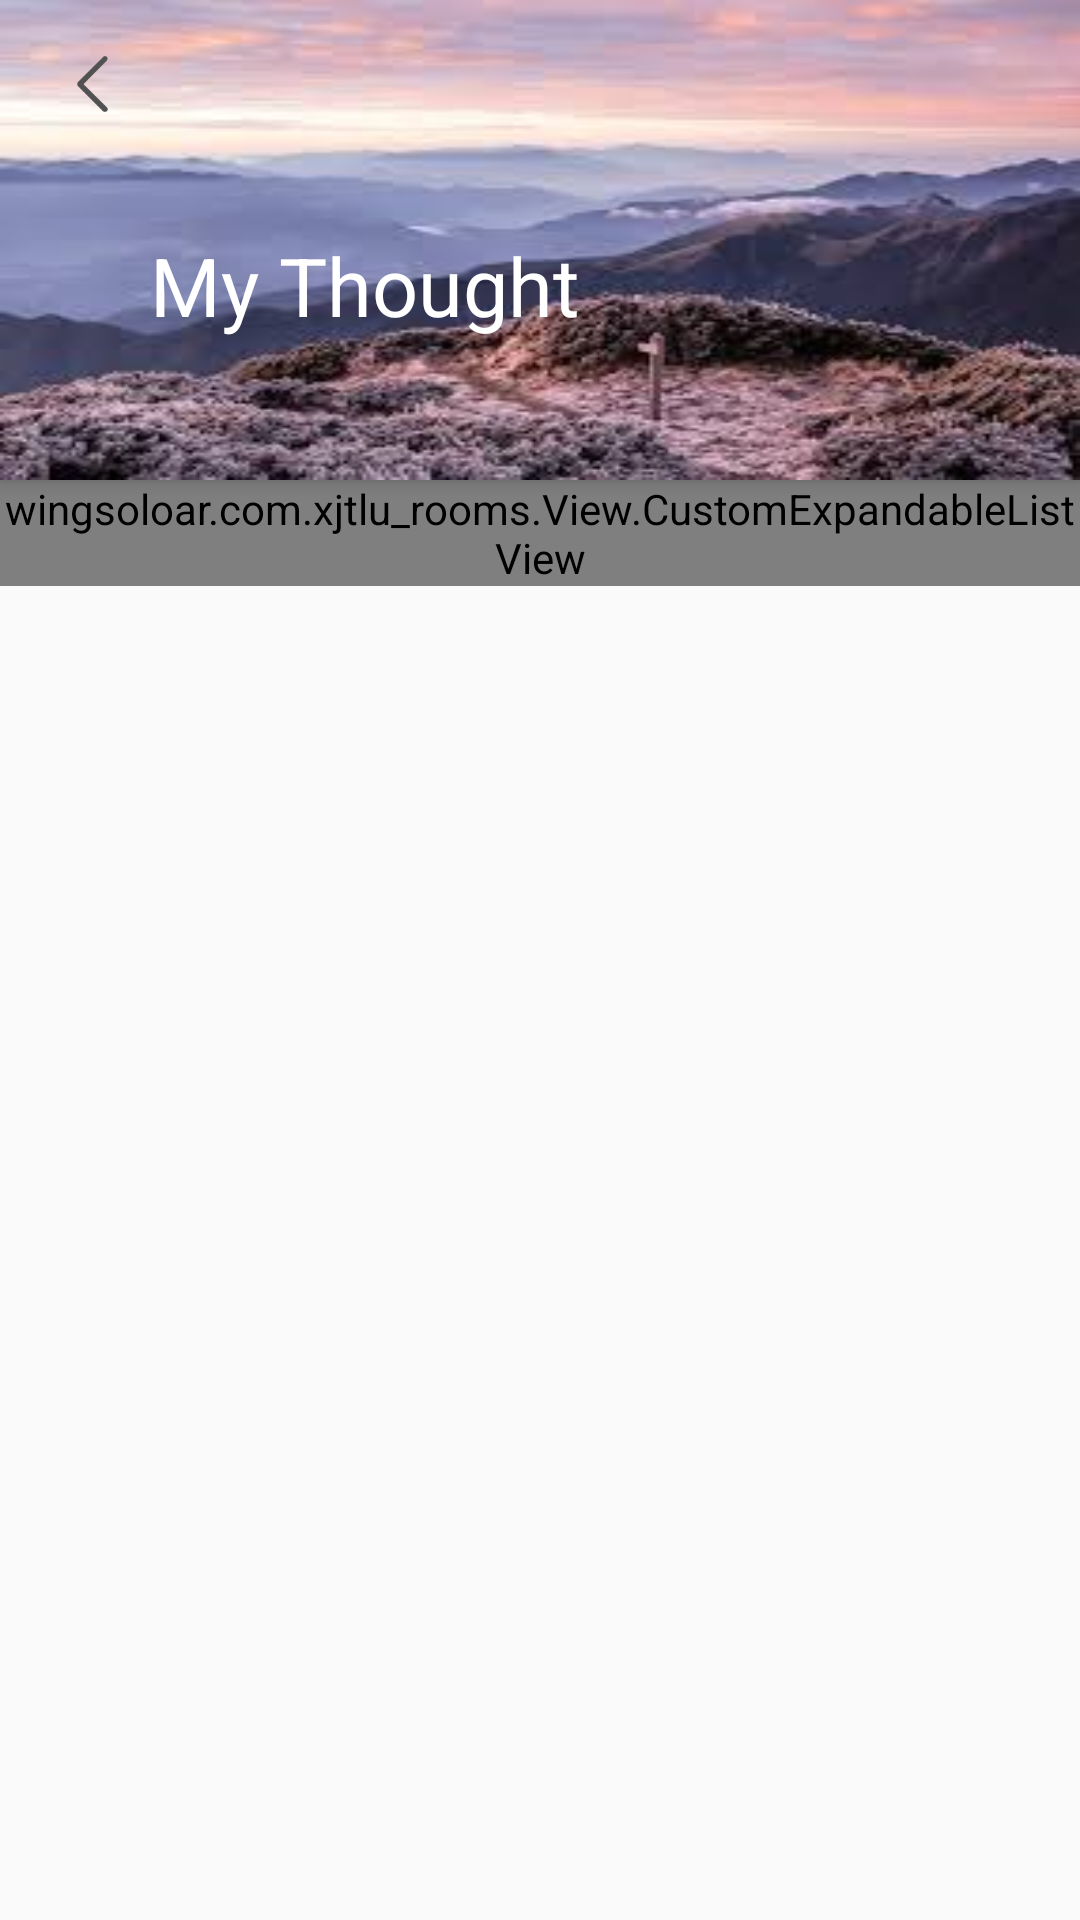

Where to tap for icons on this 1080*1920 app screen, as [x,y]:
arrow back: [93,84]
